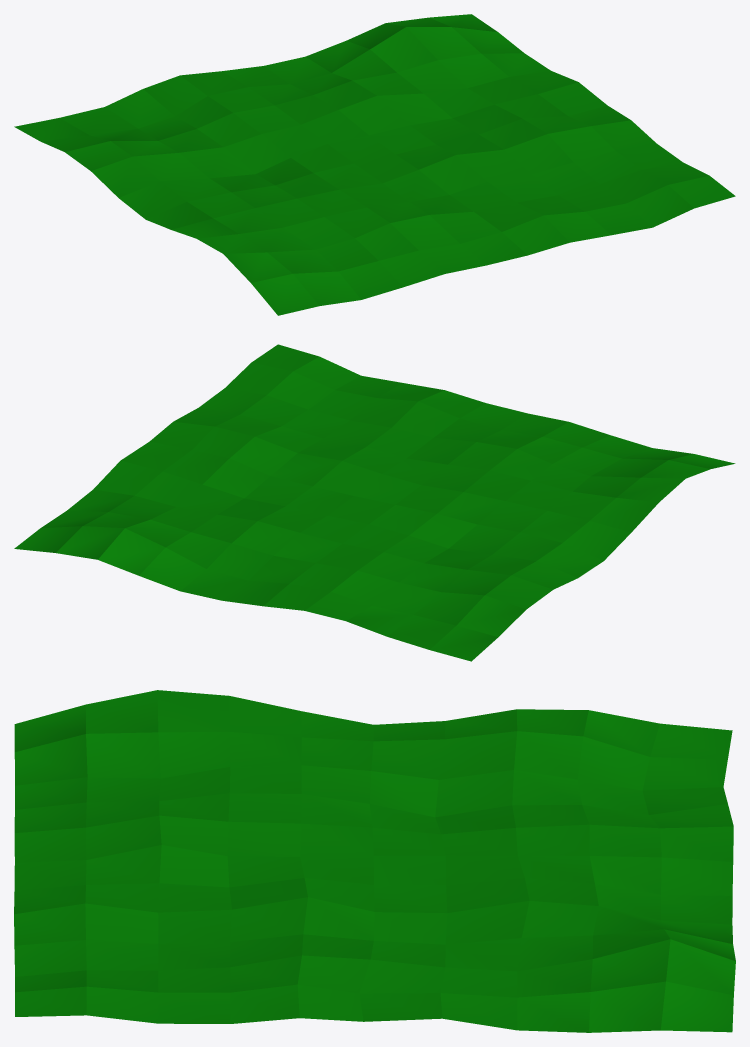
Rendered from floor_test.fbx.
The picture shows the model from 3 angles, top to bottom: view 1: azimuth 30°, elevation 25°; view 2: azimuth 150°, elevation 25°; view 3: azimuth 270°, elevation 25°; orthographic projection. The views are drawn at different scales.
Parts seen in each view (by area): view 1: Plane; view 2: Plane; view 3: Plane.
Boxes of the visible parts, x1,y1,x2,y2 form: Plane: [14, 14, 735, 315]; Plane: [14, 344, 735, 661]; Plane: [14, 690, 735, 1032].
Bounding box in the file's own units: 8056 × 491 × 8056.
